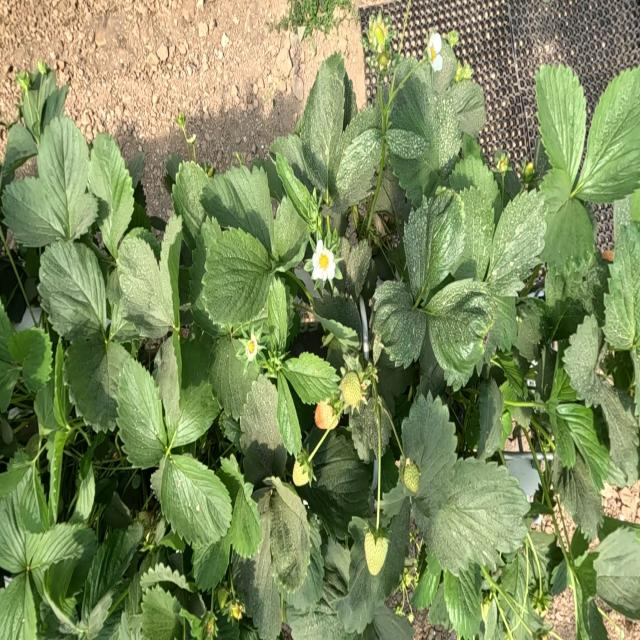Flowers: (312, 240, 335, 281), (427, 34, 443, 70), (244, 339, 258, 360)
Leaves: (424, 459, 529, 572), (388, 74, 461, 204), (338, 503, 410, 631), (424, 279, 503, 388), (576, 69, 639, 203), (299, 433, 371, 538), (288, 538, 362, 639), (202, 229, 274, 328), (404, 189, 466, 302), (38, 240, 106, 339), (299, 53, 346, 194), (161, 455, 231, 548), (65, 332, 128, 430), (37, 116, 88, 236), (201, 165, 272, 250), (488, 190, 547, 291), (536, 64, 586, 183), (258, 478, 311, 590), (117, 234, 172, 338), (402, 394, 456, 499), (88, 134, 134, 256), (83, 521, 143, 611), (547, 400, 611, 483), (116, 359, 165, 467), (232, 531, 281, 639), (240, 375, 285, 485), (595, 375, 639, 485), (373, 280, 427, 367), (32, 523, 97, 595), (603, 223, 639, 349), (330, 128, 381, 213), (2, 177, 61, 247), (542, 197, 595, 274), (209, 336, 258, 419), (594, 529, 639, 618), (189, 216, 222, 337), (453, 185, 494, 280), (275, 151, 322, 232), (498, 549, 542, 633), (171, 370, 219, 446), (561, 454, 603, 539), (0, 493, 42, 572), (563, 315, 600, 400), (281, 352, 339, 403), (450, 154, 498, 215), (443, 568, 482, 638), (12, 464, 50, 533), (173, 161, 207, 238), (9, 329, 51, 391), (153, 333, 179, 433), (227, 485, 262, 558), (286, 545, 324, 612), (271, 135, 314, 192), (0, 570, 35, 638), (272, 197, 308, 263), (22, 73, 55, 139), (276, 372, 301, 455), (193, 535, 230, 591), (141, 586, 180, 639), (478, 377, 503, 458), (313, 294, 360, 337), (449, 80, 485, 135), (1, 123, 36, 175), (217, 456, 252, 507), (412, 552, 441, 610), (350, 399, 377, 461), (0, 448, 32, 497), (386, 128, 427, 159), (102, 492, 131, 528), (1, 360, 19, 411), (127, 151, 145, 185), (165, 153, 182, 180)
Strawberries: (365, 529, 387, 575), (340, 372, 360, 408), (315, 402, 335, 429), (369, 19, 386, 46), (292, 460, 308, 485), (495, 151, 508, 174), (227, 601, 242, 620), (218, 588, 227, 607), (523, 163, 533, 178)
